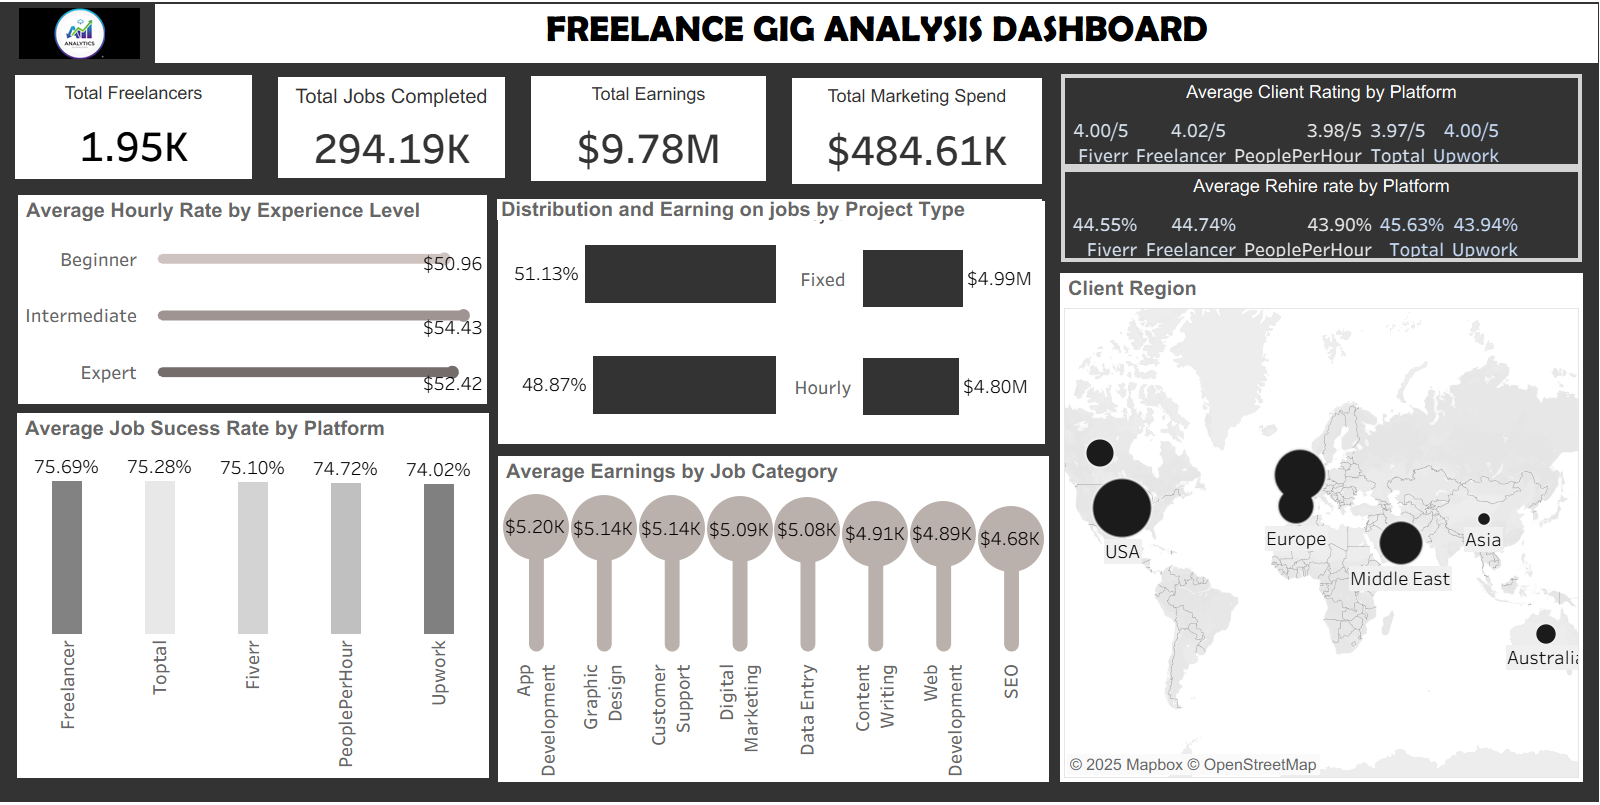

Layout of this report page (visuals, bound fields, positions):
{"tool":"tableau","page":{"name":"Freelancer Performance Dashboard","canvas":[1600,800],"ordinal":1},"visuals":[{"type":"image","param":"Image/analytics logo.jpg","box":[15,2,129,59]},{"type":"text","box":[155,2,1444,49]},{"type":"worksheet","title":"Av cl rating/platform KPI","mark":"Automatic","box":[1061,72,521,94]},{"type":"worksheet","title":"Total no of freelancers KPI","mark":"Automatic","box":[15,73,237,104]},{"type":"worksheet","title":"Total Earnings KPI","mark":"Automatic","box":[531,74,235,105]},{"type":"worksheet","title":"Total jobs completed KPI","mark":"Automatic","box":[278,75,227,101]},{"type":"worksheet","title":"Total spent on marketing KPI","mark":"Automatic","box":[792,76,250,106]},{"type":"worksheet","title":"Av Rehire rate/platform KPI","mark":"Automatic","box":[1061,166,521,94]},{"type":"text","box":[18,193,469,31]},{"type":"text","box":[493,193,553,29]},{"type":"worksheet","title":"Earn/ project type","mark":"Automatic","rows":["Project_Type"],"cols":["Earnings_USD"],"box":[779,199,266,243]},{"type":"worksheet","title":"% of project type","mark":"Bar","box":[498,213,282,229]},{"type":"worksheet","title":"Hrly Rate v. Exp Level","mark":"Line","rows":["Experience_Level"],"box":[18,224,469,178]},{"type":"text","box":[1060,271,523,31]},{"type":"worksheet","title":"Client region","mark":"Automatic","box":[1060,302,523,478]},{"type":"text","box":[17,411,472,31]},{"type":"worksheet","title":"Succ rate v.Platform","mark":"Automatic","rows":["Job_Success_Rate"],"cols":["Platform"],"box":[17,442,472,334]},{"type":"text","box":[498,454,551,31]},{"type":"worksheet","title":"Earn v. Job Cat","mark":"Line","rows":["Earnings_USD"],"cols":["Job_Category"],"box":[498,485,551,295]}]}

Visuals, with their boxes in screenshot pixels (x1, y1, x2, y2), scaled from the page's 1600x800 canvas onto the 1600x805 screenshot:
image: bbox(15, 2, 144, 61)
text: bbox(155, 2, 1599, 51)
"Av cl rating/platform KPI" worksheet: bbox(1061, 72, 1582, 167)
"Total no of freelancers KPI" worksheet: bbox(15, 73, 252, 178)
"Total Earnings KPI" worksheet: bbox(531, 74, 766, 180)
"Total jobs completed KPI" worksheet: bbox(278, 75, 505, 177)
"Total spent on marketing KPI" worksheet: bbox(792, 76, 1042, 183)
"Av Rehire rate/platform KPI" worksheet: bbox(1061, 167, 1582, 262)
text: bbox(18, 194, 487, 225)
text: bbox(493, 194, 1046, 223)
"Earn/ project type" worksheet: bbox(779, 200, 1045, 445)
"% of project type" worksheet (Bar marks): bbox(498, 214, 780, 445)
"Hrly Rate v. Exp Level" worksheet (Line marks): bbox(18, 225, 487, 405)
text: bbox(1060, 273, 1583, 304)
"Client region" worksheet: bbox(1060, 304, 1583, 785)
text: bbox(17, 414, 489, 445)
"Succ rate v.Platform" worksheet: bbox(17, 445, 489, 781)
text: bbox(498, 457, 1049, 488)
"Earn v. Job Cat" worksheet (Line marks): bbox(498, 488, 1049, 785)
